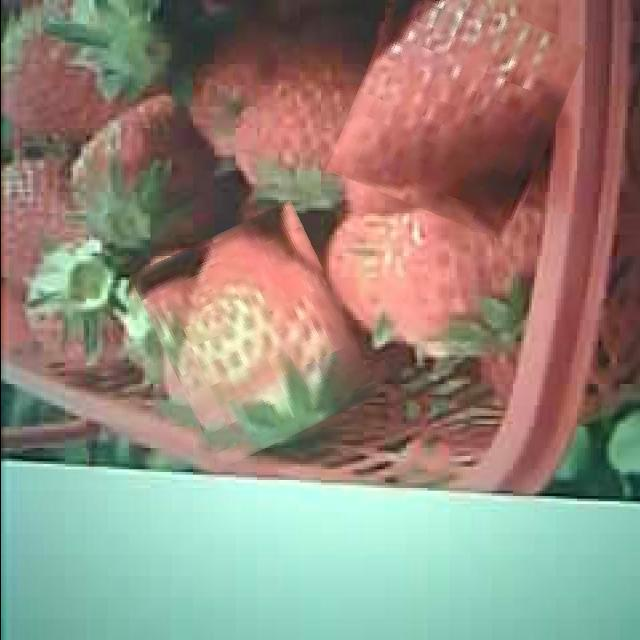strawberry: (341, 0, 570, 228), (148, 214, 362, 456)
